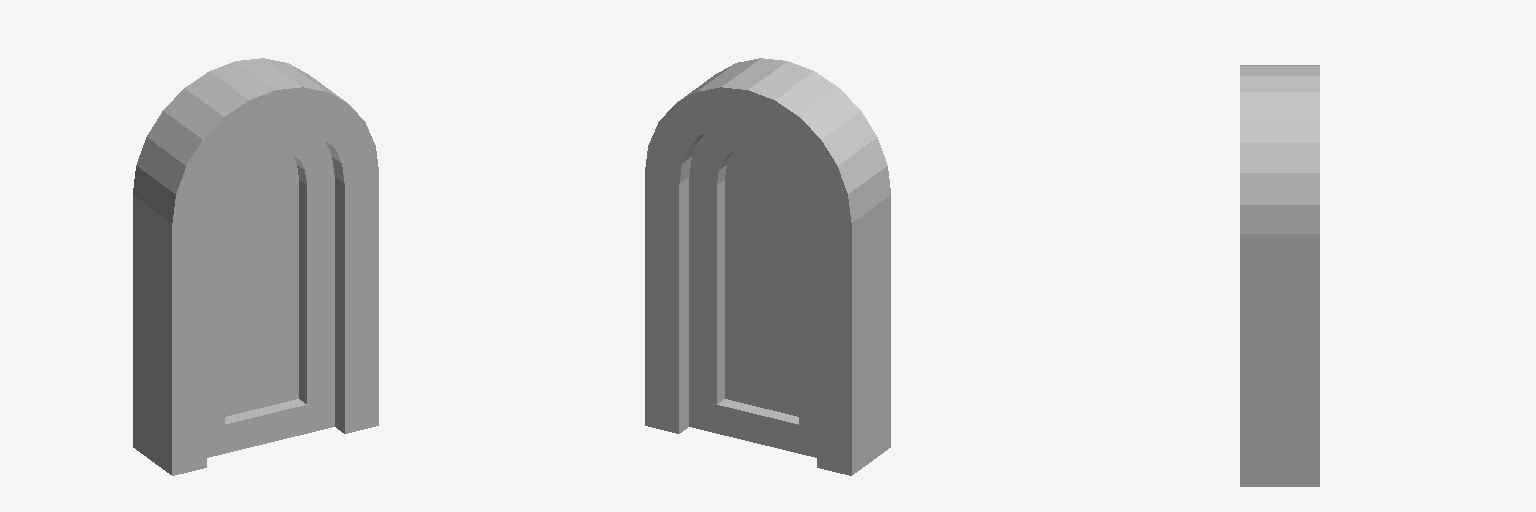
The model's file is doorClosed.obj.
3 renders of one model, left to right at view 1: azimuth 30°, elevation 25°; view 2: azimuth 150°, elevation 25°; view 3: azimuth 270°, elevation 25°, orthographic.
Parts seen in each view (by area): view 1: doorClosed; view 2: doorClosed; view 3: doorClosed.
Part boxes in pixels (left/top/right/bottom): doorClosed: left=133, top=58, right=378, bottom=475; doorClosed: left=645, top=58, right=890, bottom=475; doorClosed: left=1240, top=65, right=1319, bottom=486.
Bounding box in the file's own units: 0.6 × 1 × 0.2.